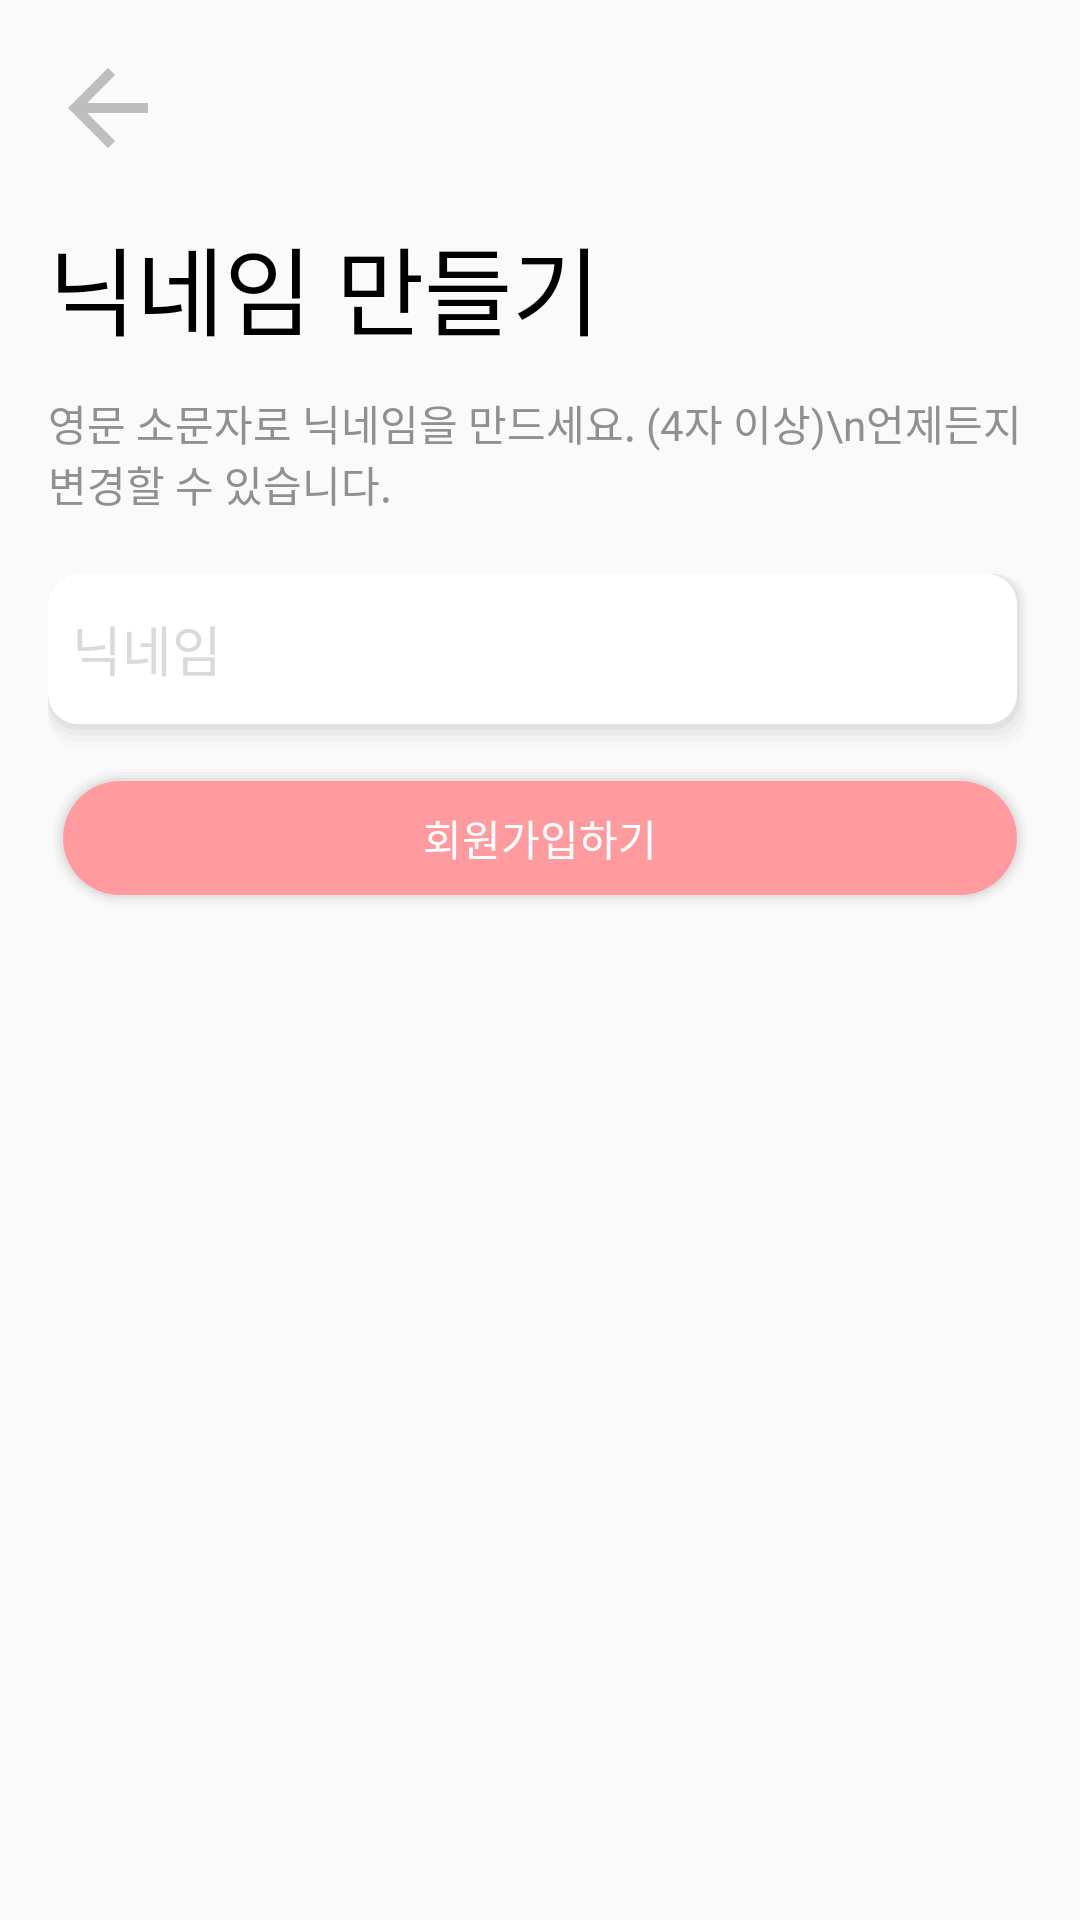

Icon click points for this 1080×1920 phone screenshot, format [x,y]:
arrow back: [108,108]
